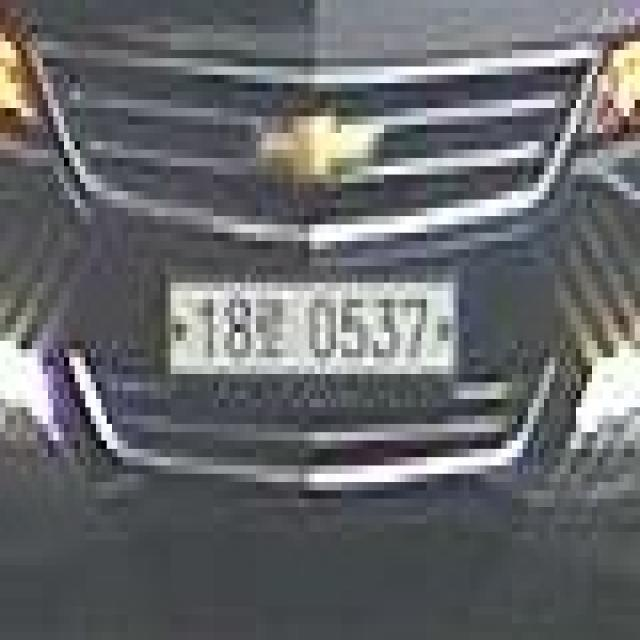0: (304, 291, 336, 366)
1: (192, 283, 219, 374)
3: (368, 291, 400, 366)
5: (336, 291, 373, 366)
7: (400, 291, 432, 366)
8: (224, 283, 256, 374)
license_plate: (155, 266, 464, 399)
lo: (256, 291, 288, 366)
